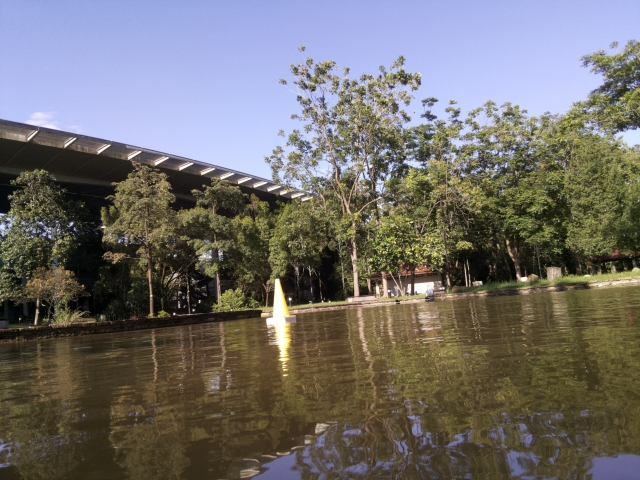checkpoint: (264, 276, 297, 328)
